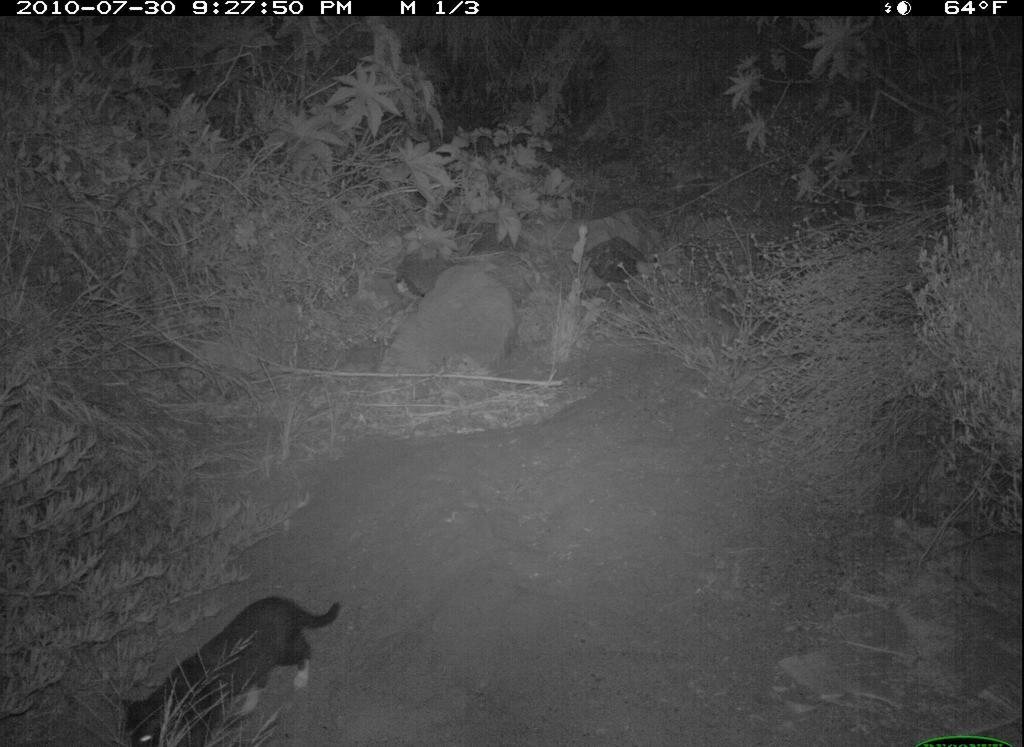cat: (113, 591, 351, 747)
